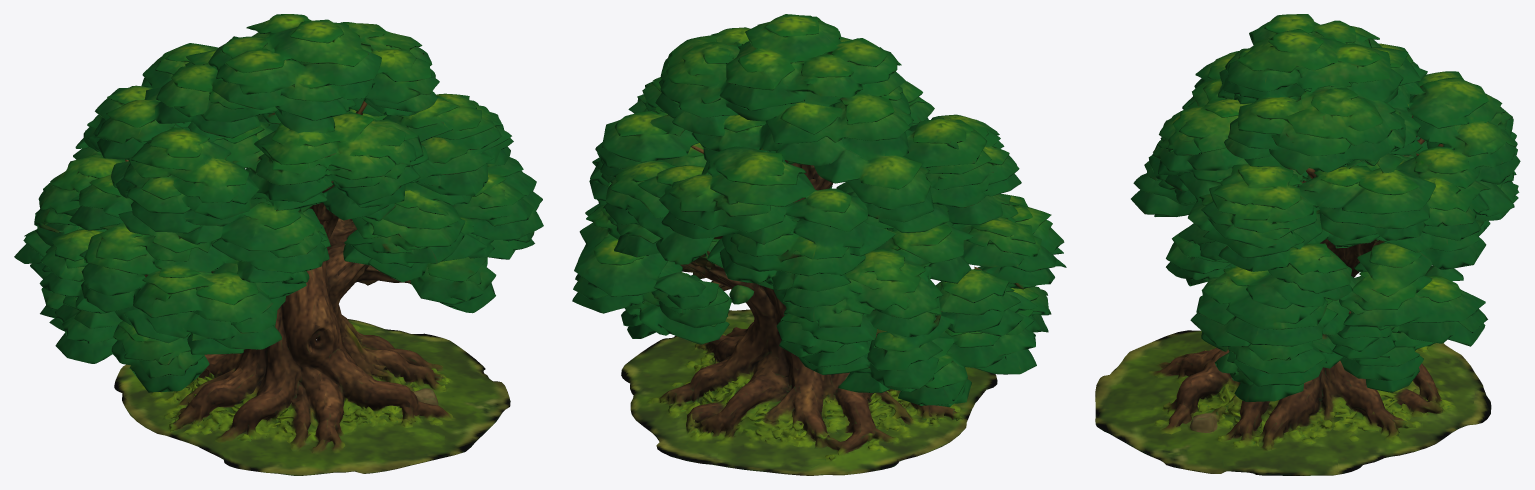
Rendered from Oak_Tree.glb.
3 views of the same model, side by side, from view 1: azimuth 30°, elevation 25°; view 2: azimuth 150°, elevation 25°; view 3: azimuth 270°, elevation 25° (orthographic).
Parts seen in each view (by area): view 1: world; view 2: world; view 3: world.
Part boxes in pixels (bbox=[...]): world: bbox=[14, 14, 543, 475]; world: bbox=[572, 14, 1066, 475]; world: bbox=[1095, 14, 1520, 475].
Bounding box in the file's own units: 1 × 0.7775 × 0.8189.
Materials: 1 (1 with a texture image).
